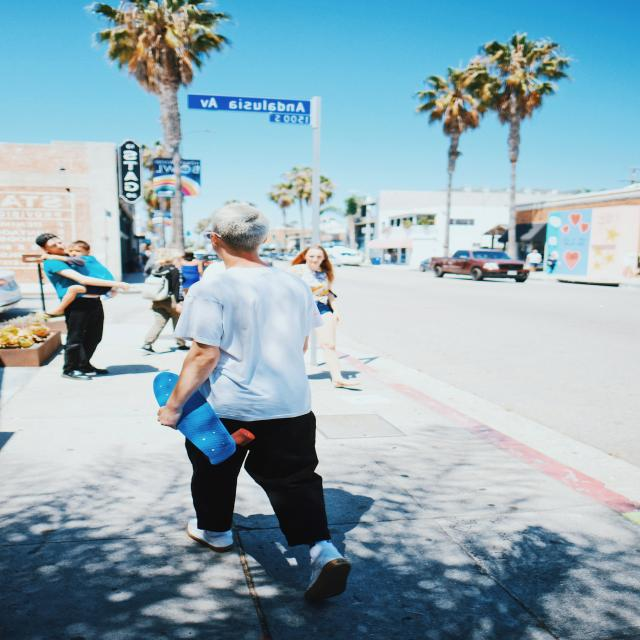adult: (153, 201, 354, 610), (34, 233, 109, 378), (288, 246, 353, 385), (41, 240, 114, 317), (142, 250, 186, 350)
